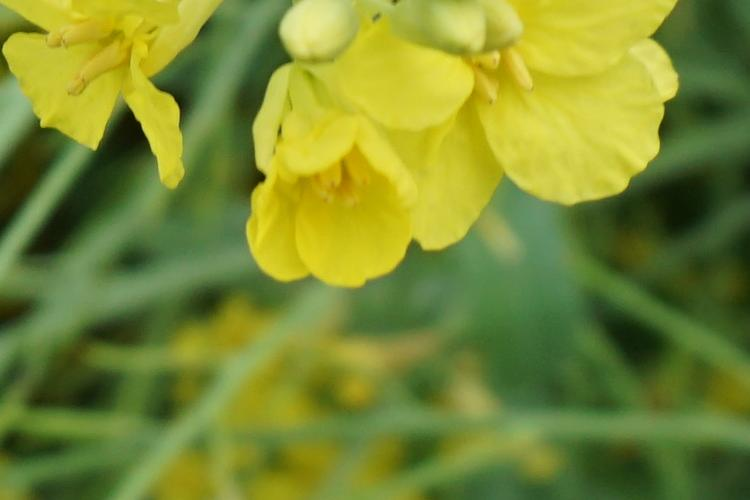bud: (397, 9, 531, 55), (267, 3, 368, 60)
yellow: (269, 65, 492, 282), (1, 2, 215, 180), (481, 3, 677, 197)
